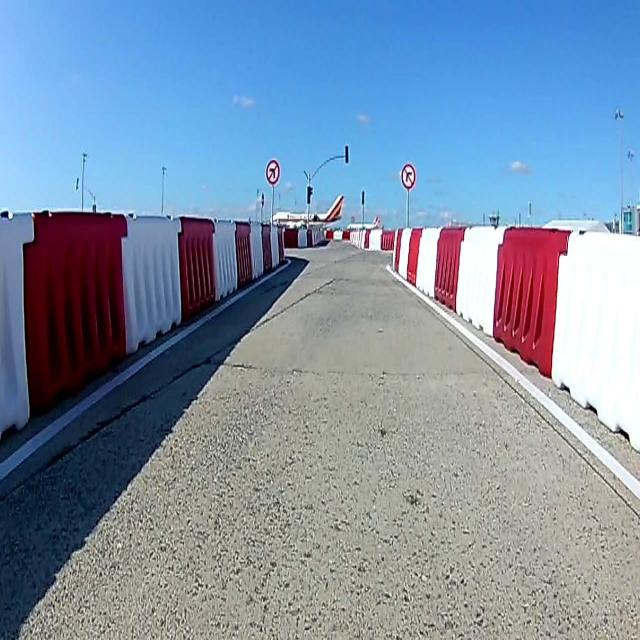sagadonulmez: (400, 162, 416, 189)
soladonulmez: (266, 158, 280, 182)
